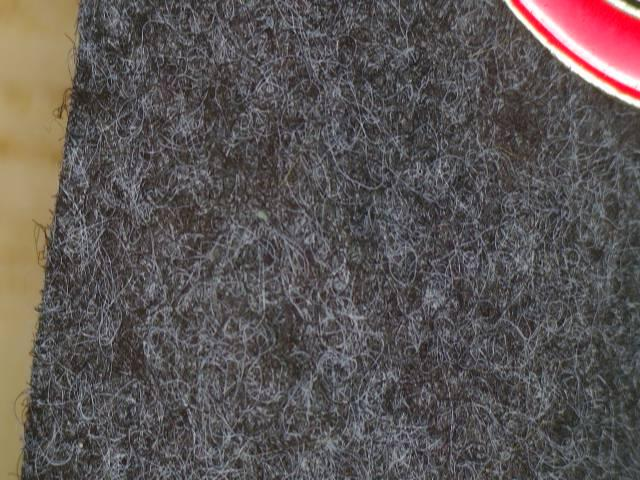Red-Hat: (469, 0, 640, 141)
